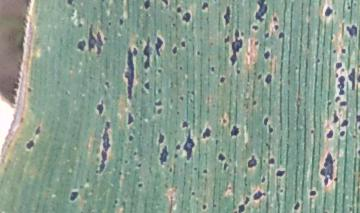tarspot: (124, 47, 137, 100), (99, 120, 110, 173), (230, 27, 243, 66), (88, 24, 103, 55), (321, 152, 335, 185), (183, 132, 195, 161), (143, 36, 152, 69), (255, 1, 268, 22), (348, 67, 356, 91), (222, 6, 232, 25), (155, 37, 164, 57), (159, 145, 168, 165), (346, 24, 358, 38), (337, 76, 345, 96), (246, 155, 257, 168), (96, 100, 104, 116), (230, 125, 240, 137), (253, 191, 266, 200), (77, 39, 86, 51), (182, 11, 191, 23), (324, 6, 333, 18), (202, 128, 211, 139), (332, 112, 340, 124), (127, 112, 134, 125), (69, 191, 78, 201), (275, 169, 286, 177), (25, 140, 34, 149), (34, 125, 41, 136), (265, 73, 272, 84), (263, 50, 270, 61), (143, 1, 151, 10), (326, 130, 334, 139), (341, 118, 349, 127), (238, 203, 245, 213), (172, 44, 178, 55), (158, 134, 165, 143), (202, 1, 209, 10), (217, 153, 226, 160), (154, 100, 162, 107), (183, 121, 190, 129), (273, 23, 280, 31), (309, 189, 317, 196), (225, 184, 233, 191), (118, 17, 124, 26), (263, 117, 269, 126), (224, 35, 230, 44), (144, 82, 151, 89), (27, 86, 33, 94), (128, 134, 134, 142), (252, 25, 260, 31), (279, 31, 285, 39), (294, 202, 300, 210), (244, 197, 250, 205), (160, 1, 169, 6), (223, 162, 228, 171), (339, 102, 348, 107), (67, 1, 74, 7), (105, 82, 111, 89), (180, 40, 186, 47), (176, 6, 182, 13), (195, 50, 202, 56), (220, 76, 226, 83), (214, 138, 220, 145), (268, 158, 275, 164), (272, 16, 279, 22), (346, 4, 352, 11), (335, 62, 342, 68), (334, 97, 341, 103), (157, 108, 162, 116), (269, 126, 274, 134), (261, 176, 266, 184), (103, 35, 109, 41), (157, 88, 163, 94), (175, 144, 181, 150), (339, 131, 345, 137), (356, 114, 360, 123), (351, 133, 357, 139), (124, 158, 129, 165), (173, 152, 178, 159), (211, 66, 216, 73), (221, 119, 228, 124), (190, 89, 195, 96), (240, 30, 245, 37), (341, 48, 346, 55), (310, 127, 315, 134), (85, 176, 90, 183), (78, 23, 83, 29), (157, 68, 163, 73), (179, 96, 185, 101), (171, 22, 177, 27), (202, 169, 208, 174), (265, 142, 270, 148), (254, 40, 259, 46), (265, 33, 270, 39), (334, 72, 339, 78), (327, 100, 332, 106), (333, 176, 338, 182), (202, 204, 207, 210), (348, 205, 352, 212), (357, 74, 360, 83), (332, 49, 337, 54), (316, 58, 321, 63), (191, 191, 196, 196), (138, 183, 143, 188), (108, 21, 112, 27), (169, 167, 173, 173), (176, 110, 180, 116), (179, 65, 183, 71), (139, 39, 143, 45), (253, 100, 257, 106), (258, 74, 262, 80), (114, 198, 118, 204), (118, 171, 122, 176), (193, 166, 197, 171), (237, 69, 241, 74), (244, 182, 248, 187), (138, 164, 142, 168), (358, 149, 360, 157), (280, 189, 284, 193), (213, 204, 217, 208), (134, 151, 137, 156), (358, 125, 360, 131), (234, 210, 238, 213)
